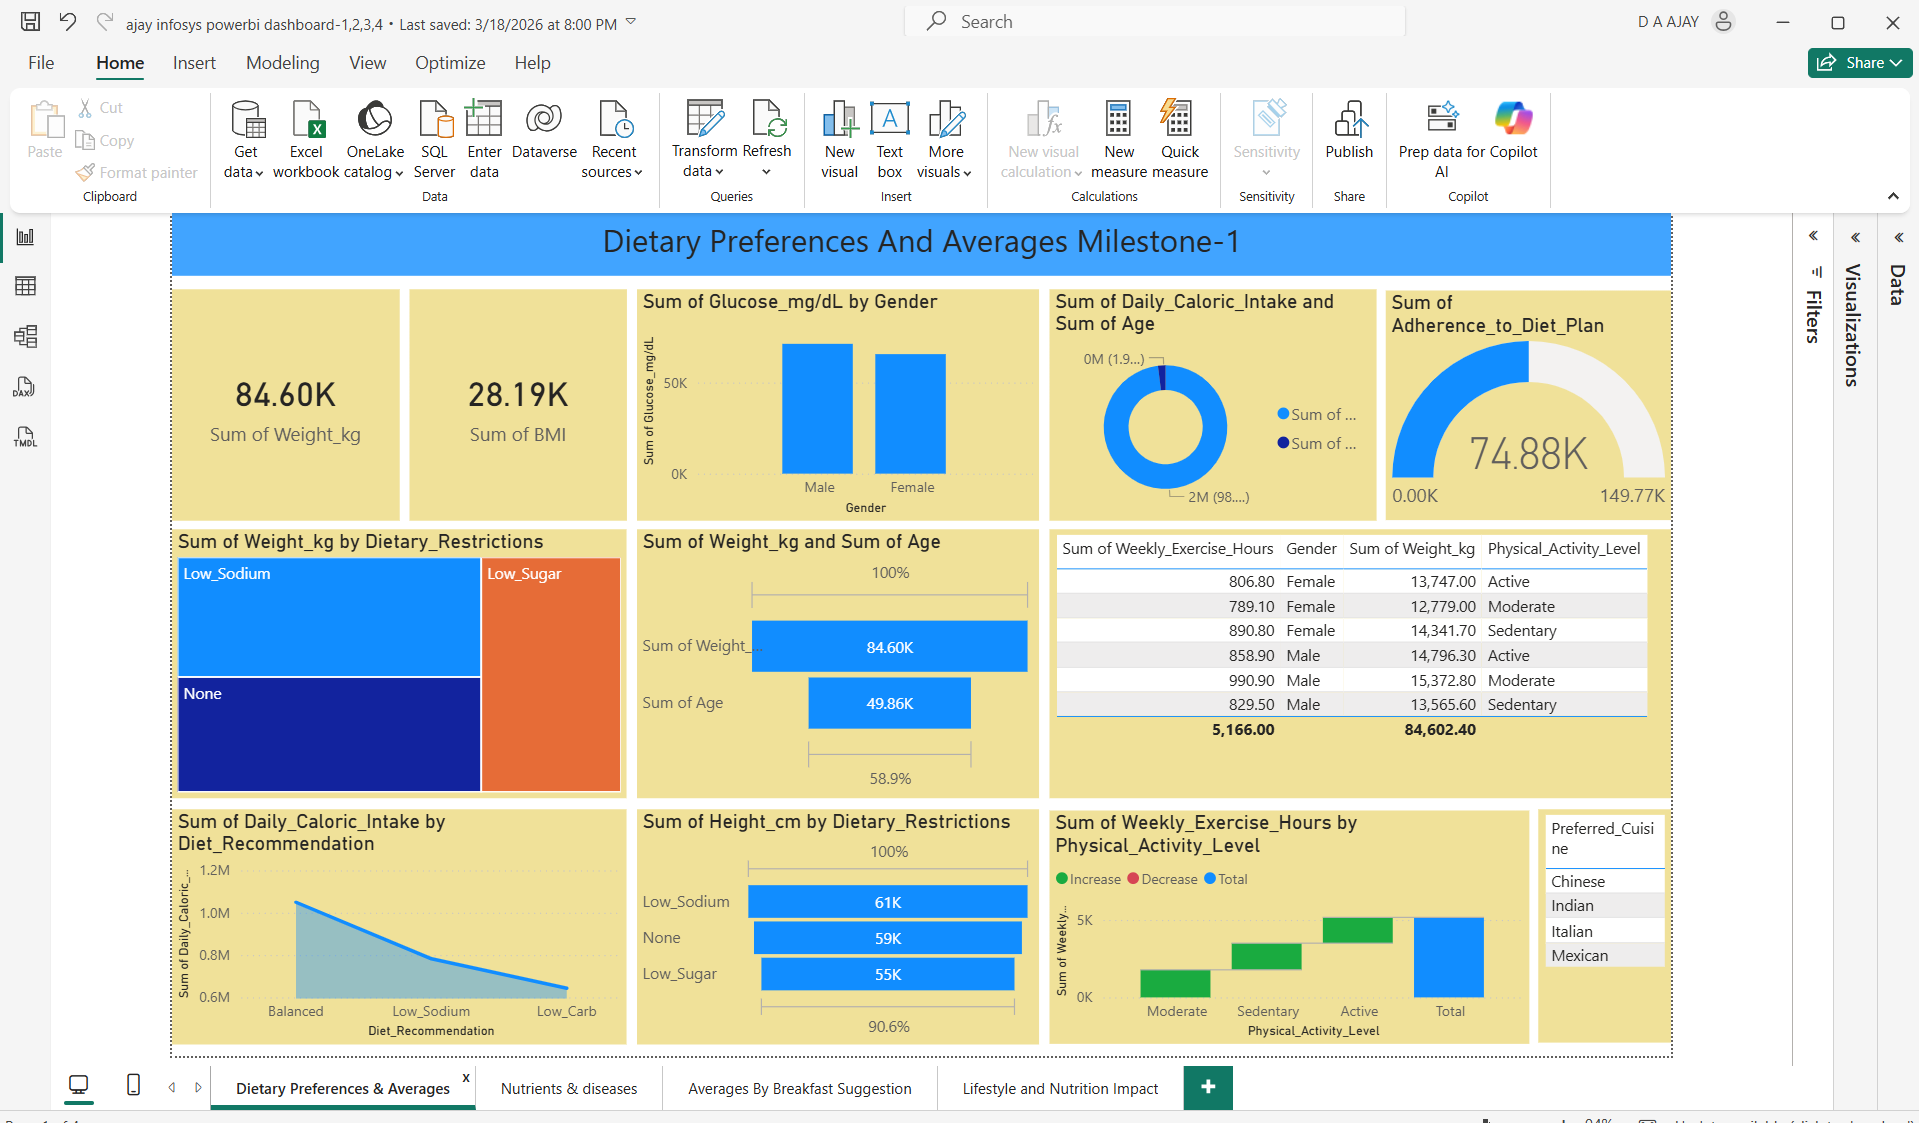

This screenshot's page, from the dashboard's own definition file:
{"tool":"powerbi","page":{"name":"Dietary Preferences & Averages","canvas":[1280,720],"ordinal":0},"visuals":[{"type":"textbox","box":[0,0,1280.4,53.3],"z":0},{"type":"card","fields":{"Values":["Sum(diet_recommendations_dataset.BMI)"]},"box":[202.7,65.1,185.7,197.4],"z":2000},{"type":"card","fields":{"Values":["Sum(diet_recommendations_dataset.Weight_kg)"]},"box":[0,65.1,194.2,197.4],"z":3000},{"type":"treemap","fields":{"Values":["Sum(diet_recommendations_dataset.Weight_kg)"],"Group":["diet_recommendations_dataset.Dietary_Restrictions"]},"box":[0,269.9,388.4,229.4],"z":4000},{"type":"clusteredColumnChart","fields":{"Y":["Sum(diet_recommendations_dataset.Glucose_mg/dL)"],"Category":["diet_recommendations_dataset.Gender"]},"box":[396.9,65.1,343.6,197.4],"z":5000},{"type":"donutChart","fields":{"Y":["Sum(diet_recommendations_dataset.Daily_Caloric_Intake)","Sum(diet_recommendations_dataset.Age)"]},"box":[749,65.1,279.6,197.4],"z":6000},{"type":"tableEx","fields":{"Values":["Sum(diet_recommendations_dataset.Weekly_Exercise_Hours)","diet_recommendations_dataset.Gender","Sum(diet_recommendations_dataset.Weight_kg)","diet_recommendations_dataset.Physical_Activity_Level"]},"box":[749,269.9,531.4,229.4],"z":8000},{"type":"funnel","fields":{"Y":["Sum(diet_recommendations_dataset.Weight_kg)","Sum(diet_recommendations_dataset.Age)"]},"box":[396.9,269.9,343.6,229.4],"z":9000},{"type":"gauge","fields":{"Y":["Sum(diet_recommendations_dataset.Adherence_to_Diet_Plan)"]},"box":[1036,66.2,244.3,196.3],"z":10000},{"type":"tableEx","fields":{"Values":["diet_recommendations_dataset.Preferred_Cuisine"]},"box":[1166.2,509,114.2,199.5],"z":11000},{"type":"stackedAreaChart","fields":{"Category":["diet_recommendations_dataset.Diet_Recommendation"],"Y":["Sum(diet_recommendations_dataset.Daily_Caloric_Intake)"]},"box":[0,509,388.4,200.6],"z":12000},{"type":"funnel","fields":{"Category":["diet_recommendations_dataset.Dietary_Restrictions"],"Y":["Sum(diet_recommendations_dataset.Height_cm)"]},"box":[396.9,509,343.6,200.6],"z":13000},{"type":"waterfallChart","fields":{"Category":["diet_recommendations_dataset.Physical_Activity_Level"],"Y":["Sum(diet_recommendations_dataset.Weekly_Exercise_Hours)"]},"box":[749,510,409.7,199.5],"z":14000}]}

Visuals, with their boxes on the page's 1280x720 design canvas (x1, y1, x2, y2). These are canvas units, not pixel positions in the 1919x1123 screenshot, which may show the page scaled, cropped or inside an application window:
textbox: 0/0/1280/53
card - Sum(diet_recommendations_dataset.BMI): 203/65/388/262
card - Sum(diet_recommendations_dataset.Weight_kg): 0/65/194/262
treemap - Sum(diet_recommendations_dataset.Weight_kg) x diet_recommendations_dataset.Dietary_Restrictions: 0/270/388/499
clusteredColumnChart - Sum(diet_recommendations_dataset.Glucose_mg/dL) x diet_recommendations_dataset.Gender: 397/65/740/262
donutChart - Sum(diet_recommendations_dataset.Daily_Caloric_Intake) x Sum(diet_recommendations_dataset.Age): 749/65/1029/262
tableEx - Sum(diet_recommendations_dataset.Weekly_Exercise_Hours) x diet_recommendations_dataset.Gender: 749/270/1280/499
funnel - Sum(diet_recommendations_dataset.Weight_kg) x Sum(diet_recommendations_dataset.Age): 397/270/740/499
gauge - Sum(diet_recommendations_dataset.Adherence_to_Diet_Plan): 1036/66/1280/262
tableEx - diet_recommendations_dataset.Preferred_Cuisine: 1166/509/1280/708
stackedAreaChart - diet_recommendations_dataset.Diet_Recommendation x Sum(diet_recommendations_dataset.Daily_Caloric_Intake): 0/509/388/710
funnel - diet_recommendations_dataset.Dietary_Restrictions x Sum(diet_recommendations_dataset.Height_cm): 397/509/740/710
waterfallChart - diet_recommendations_dataset.Physical_Activity_Level x Sum(diet_recommendations_dataset.Weekly_Exercise_Hours): 749/510/1159/710
